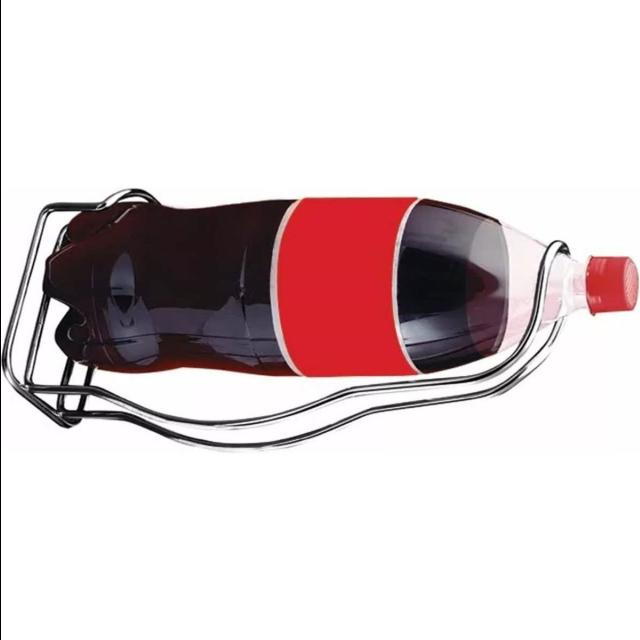bottom: (41, 189, 162, 382)
cap: (574, 242, 639, 318)
